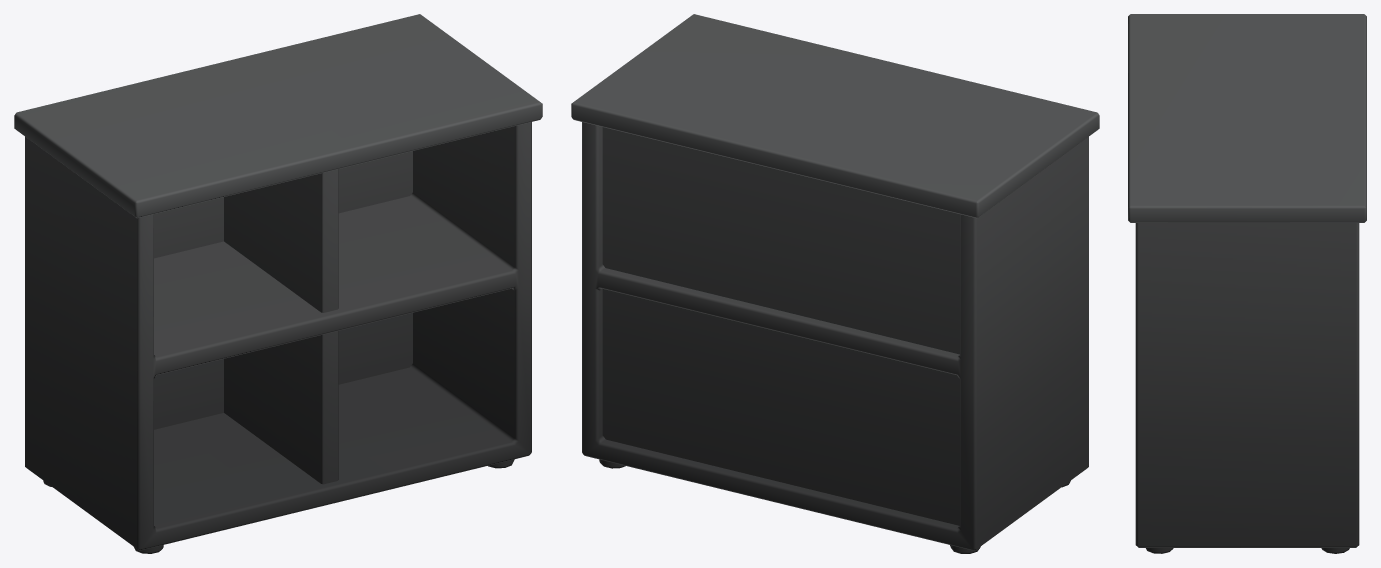
The model's file is shelf.glb.
The picture shows the model from 3 angles, left to right: view 1: azimuth 30°, elevation 25°; view 2: azimuth 150°, elevation 25°; view 3: azimuth 270°, elevation 25°; orthographic projection. The views are drawn at different scales.
Visible parts, largest first — view 1: Shelving_01; view 2: Shelving_01; view 3: Shelving_01.
Boxes of the visible parts, <box> form: Shelving_01: <box>14,14,542,553</box>; Shelving_01: <box>571,14,1099,553</box>; Shelving_01: <box>1128,14,1366,553</box>.
Bounding box in the file's own units: 0.9993 × 0.8562 × 0.5209.
Materials: 1 (1 with a texture image).
